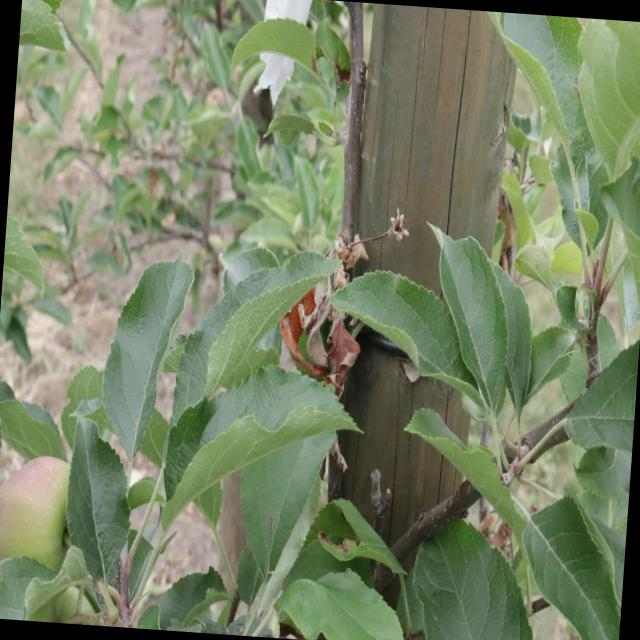-FireBlight-: (277, 240, 367, 387)
